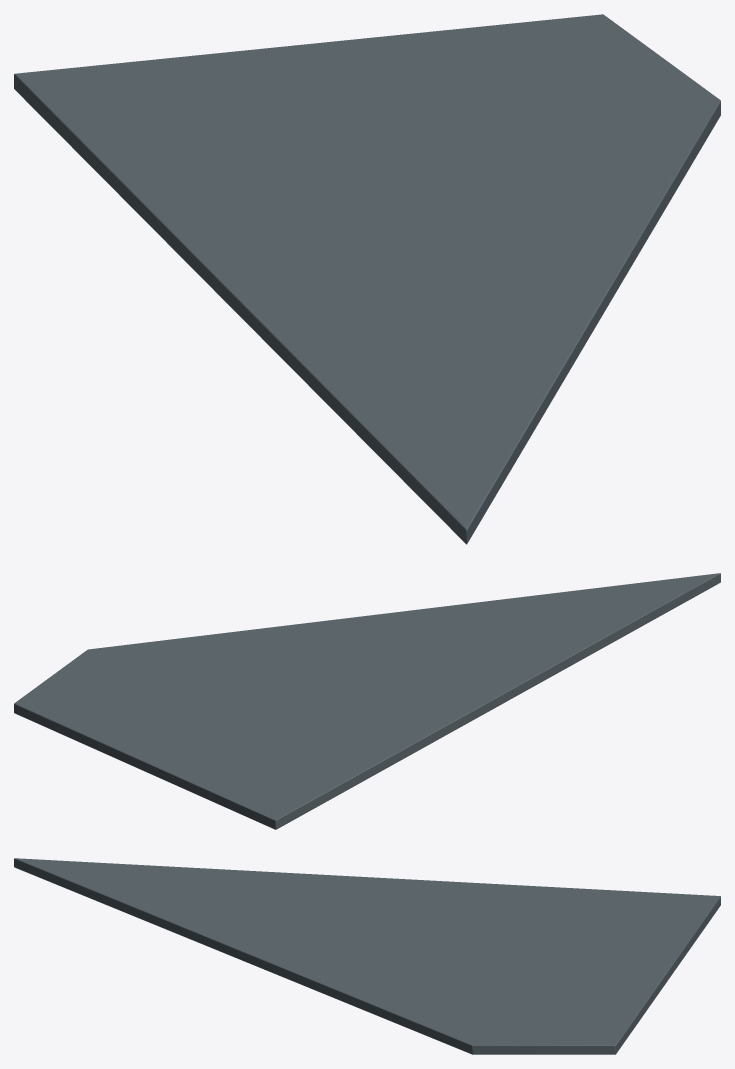
3 views of the same model, one above another, from view 1: azimuth 30°, elevation 25°; view 2: azimuth 150°, elevation 25°; view 3: azimuth 270°, elevation 25° (orthographic). The views are drawn at different scales.
Visible parts, largest first — view 1: Cube.013; view 2: Cube.013; view 3: Cube.013.
Part boxes in pixels (x1=…): Cube.013: x1=14, y1=14, x2=720, y2=544; Cube.013: x1=14, y1=573, x2=720, y2=829; Cube.013: x1=14, y1=858, x2=720, y2=1054.
Size of the model in its own units: 2.28 by 0.0545 by 3.63.
1 material, 1 textured.
